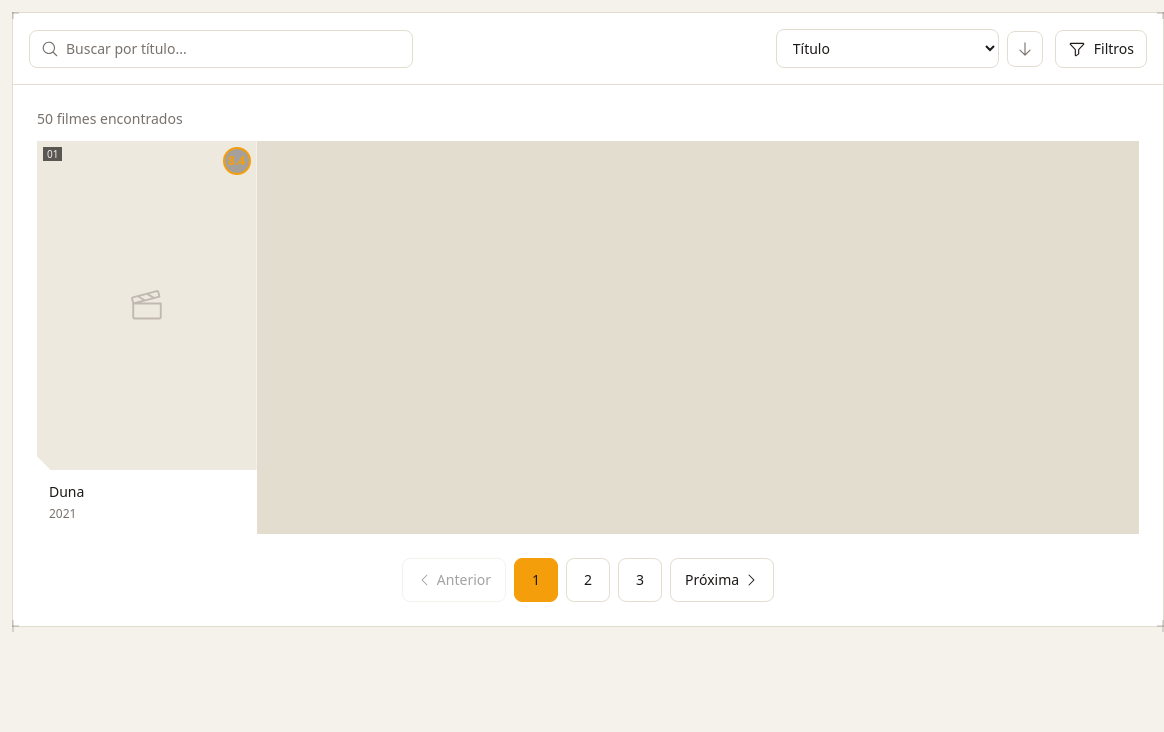
Test: CatalogPage › URL sync › writes the selected page into the URL
Check: the text "50 filmes encontrados" is shown, box x1=37 y1=109 x2=183 y2=128
Click the button "2" at (588, 580), box x1=566 y1=558 x2=610 y2=602
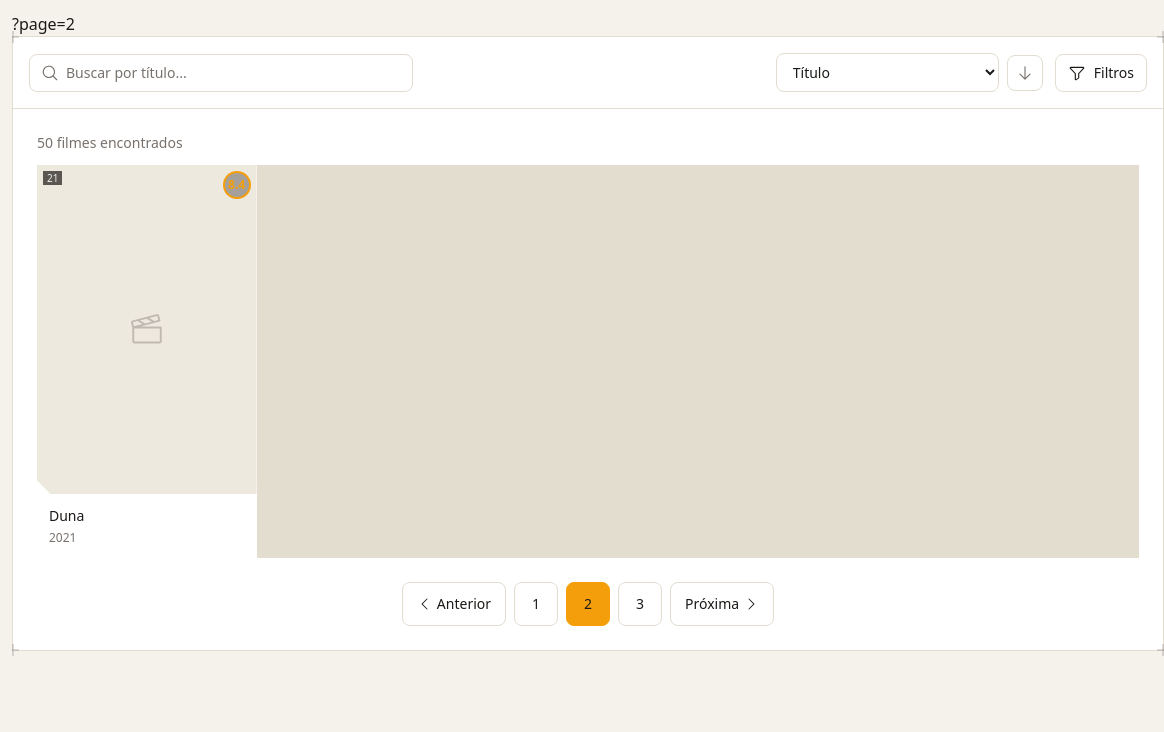
Check: the text with test id "location-search" shows "page=2", box x1=12 y1=13 x2=75 y2=35
